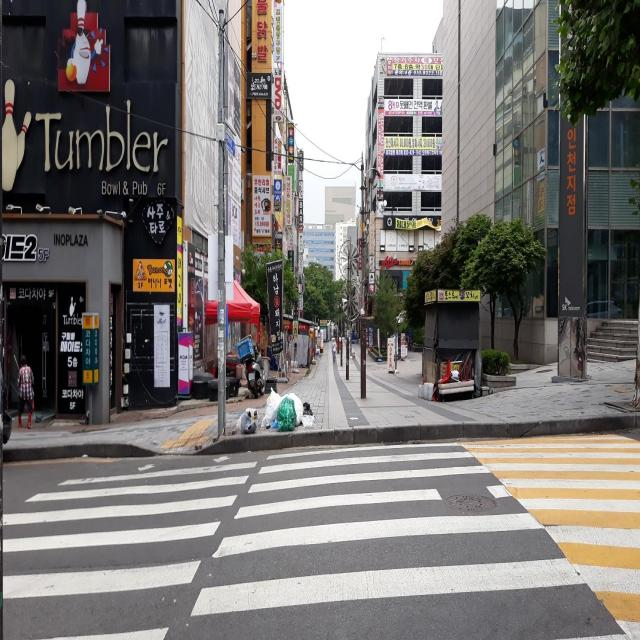횡단보도: (0, 437, 636, 640)
